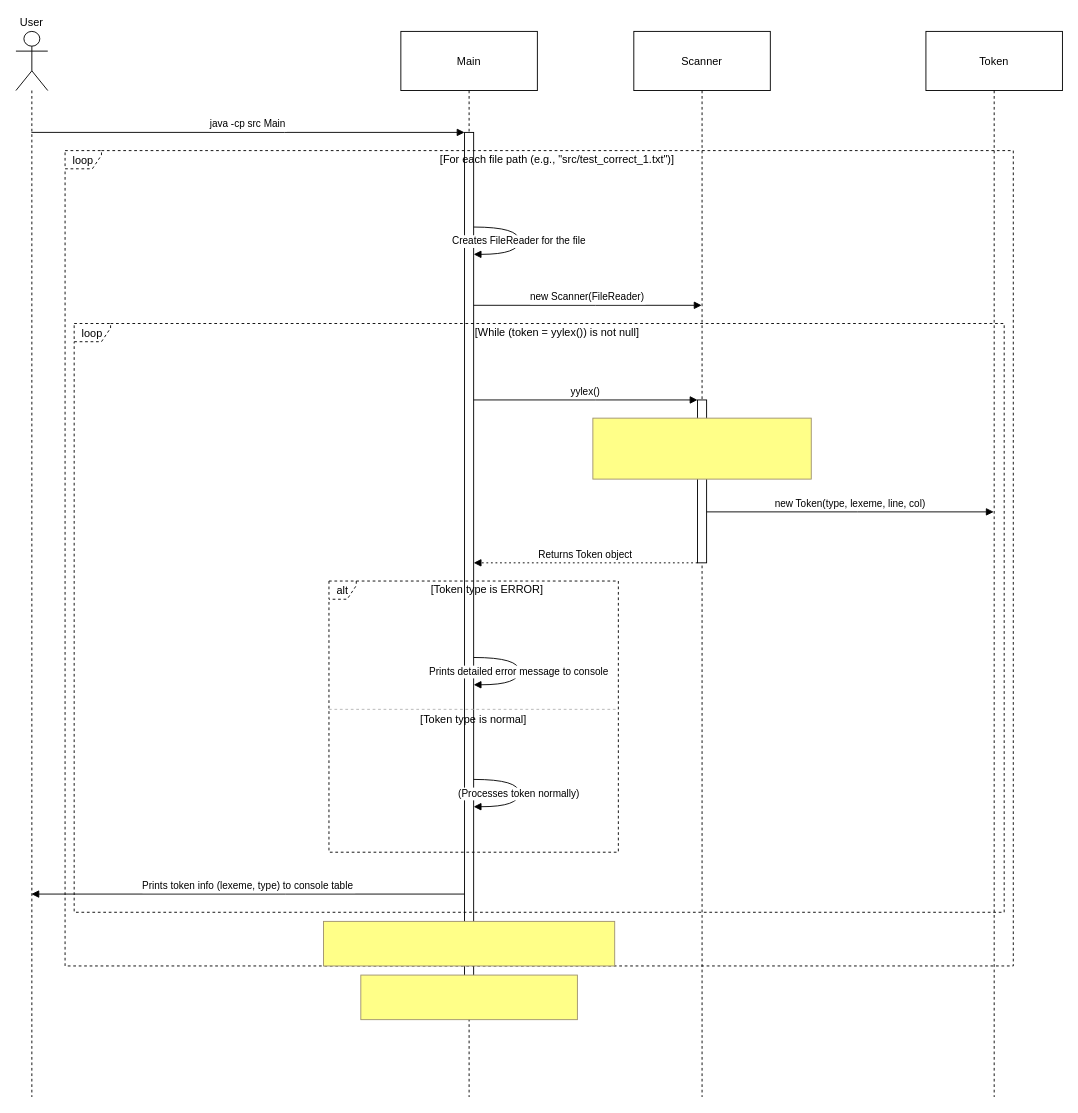
Image size: 1078x1113. Some labels were removed from this diagram. The centre of each missing label's shape, as x and y in pixels:
All files have been processed.: point (468, 997)
End of file reached, yylex() returned null.: point (469, 943)
Reads characters, finds longest match (e.g., "if"): point (701, 448)
